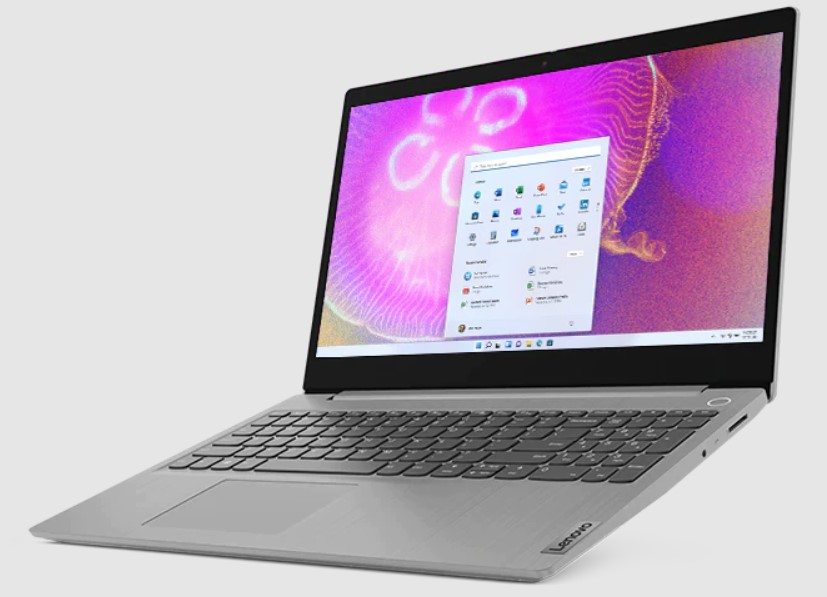laptops: (28, 14, 815, 584)
